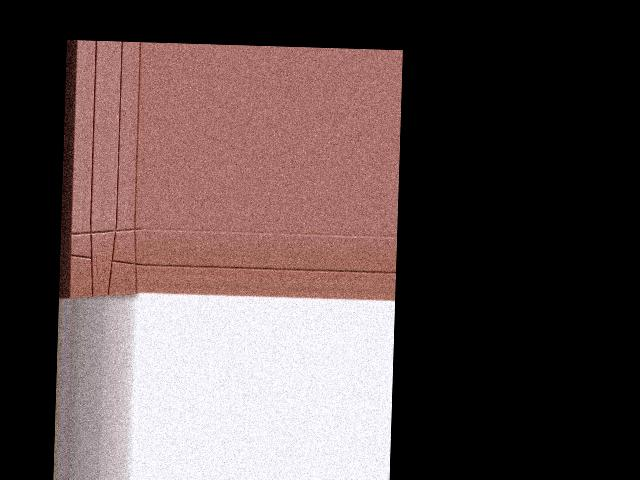chocolate: (65, 221, 141, 302)
